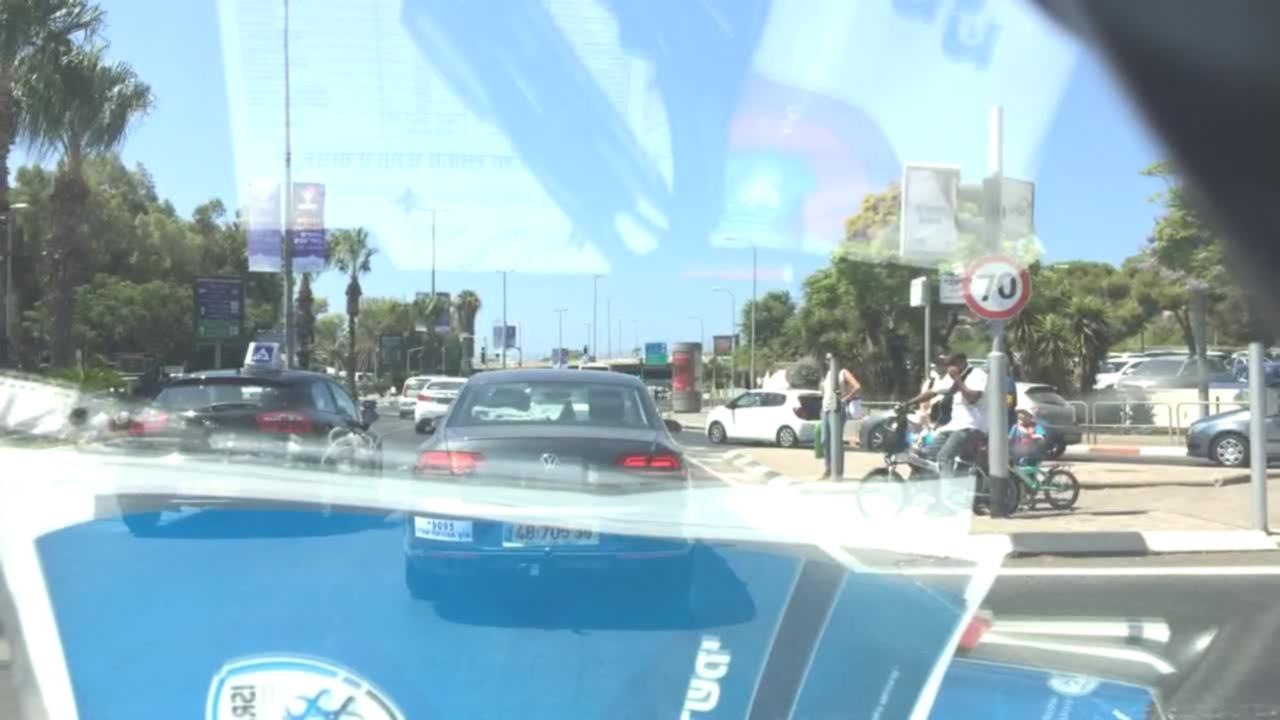Volkswagen: (537, 447, 564, 478)
